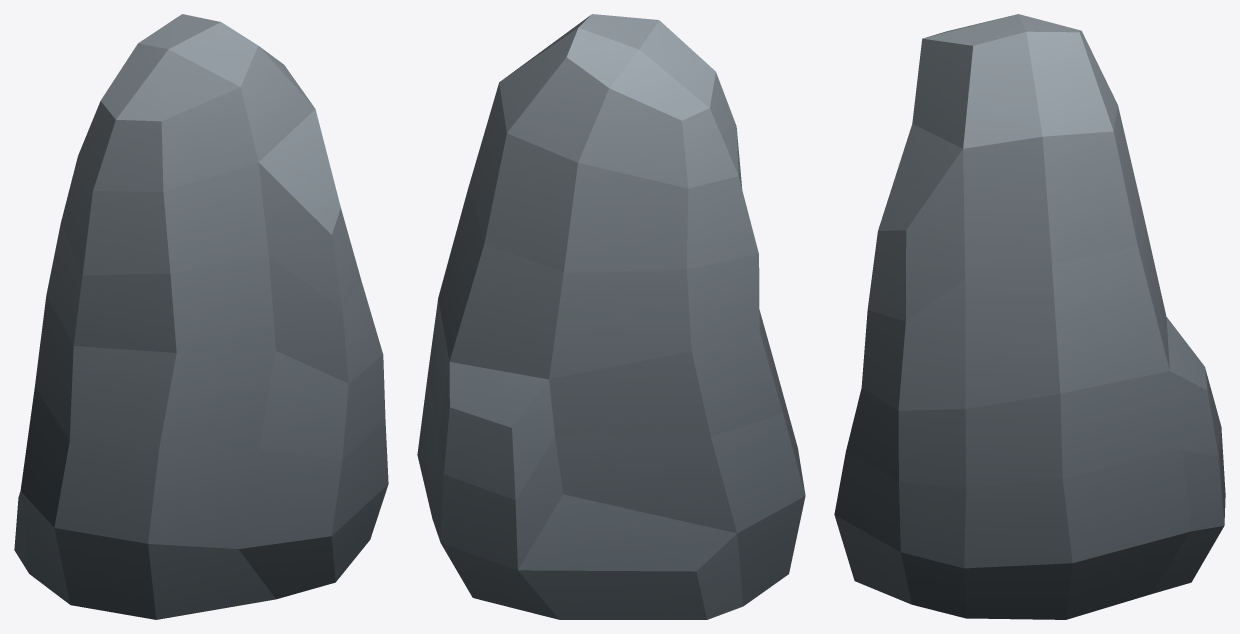
Rendered from skała1.fbx.
3 renders of one model, left to right at view 1: azimuth 30°, elevation 25°; view 2: azimuth 150°, elevation 25°; view 3: azimuth 270°, elevation 25°, orthographic. The views are drawn at different scales.
Visible parts, largest first — view 1: skała1; view 2: skała1; view 3: skała1.
Part boxes in pixels (box(x1,y1,x2,y2)): skała1: box(14, 14, 388, 619); skała1: box(417, 14, 805, 619); skała1: box(834, 14, 1225, 619).
Size of the model in its own units: 234 by 352 by 227.
